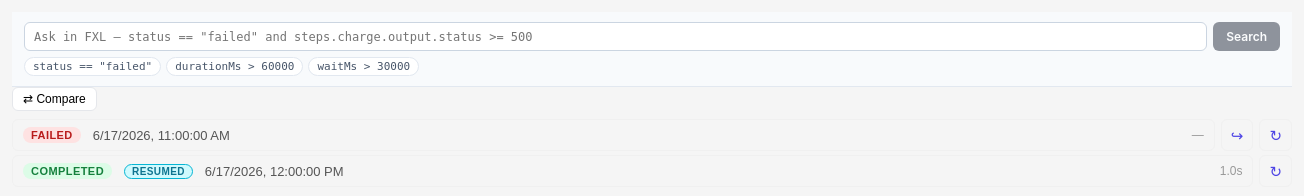
ExecutionHistory resume › offers Resume from a failed run detail view and badges resumed runs in the list
This screenshot has width=1304, height=196.
Expected: the text "Resumed" is shown, [124, 164, 193, 178]
What coordinates should you click on to do the following:
click the text "failed"
I would click on:
 (52, 135)
Its box is [23, 127, 81, 143].
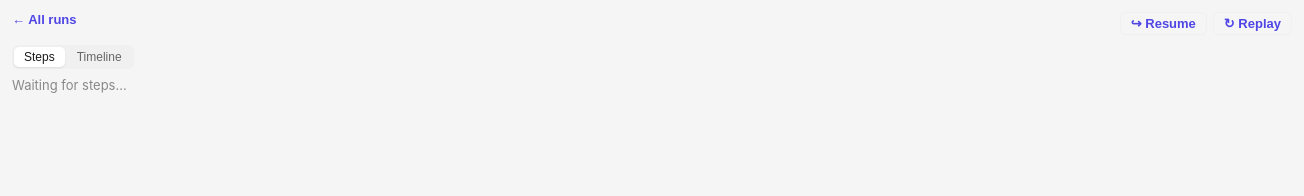
Expected: the button "← All runs" is shown, [12, 12, 76, 37]
Expected: the button with aria-label "Resume this run" is shown, [1120, 12, 1207, 35]
